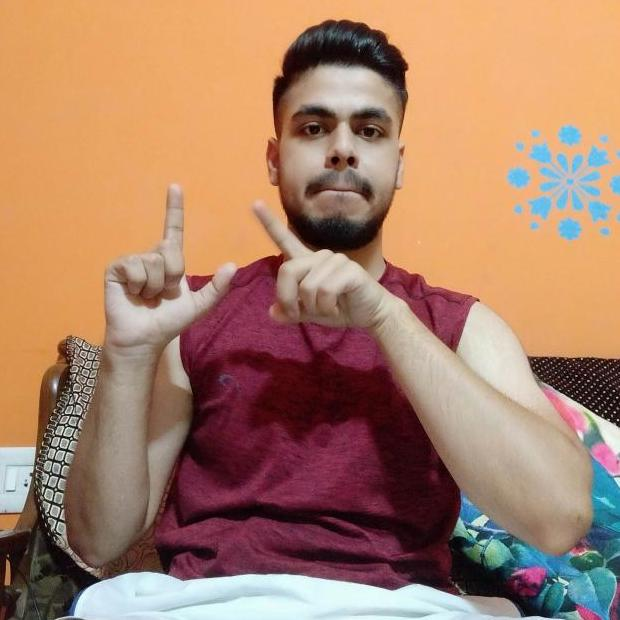I: (86, 172, 395, 381)
